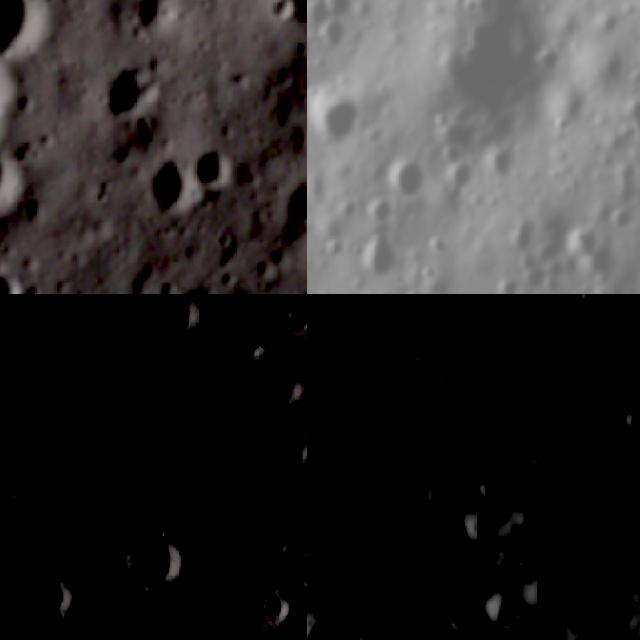crater: (406, 312, 551, 458), (114, 515, 202, 604), (396, 461, 484, 550), (201, 294, 290, 378), (346, 439, 434, 515), (514, 559, 580, 638), (94, 51, 164, 120), (19, 568, 86, 637), (126, 434, 195, 498), (142, 294, 211, 354), (307, 590, 387, 640), (137, 149, 190, 224), (348, 562, 410, 624), (307, 82, 363, 149), (209, 401, 267, 465), (189, 134, 243, 197), (0, 0, 55, 61), (470, 581, 526, 640), (250, 580, 304, 636), (149, 375, 205, 427), (220, 474, 274, 526), (339, 373, 390, 426), (354, 228, 404, 282), (174, 464, 222, 518), (366, 314, 414, 366), (382, 150, 431, 199), (0, 47, 22, 143), (58, 536, 103, 582), (122, 0, 182, 34), (250, 506, 294, 551), (76, 308, 120, 352), (436, 599, 483, 640), (0, 145, 25, 222), (438, 148, 482, 191), (486, 135, 526, 181), (273, 427, 307, 478), (115, 375, 155, 416), (310, 14, 353, 52), (363, 190, 398, 227), (260, 532, 296, 566), (612, 401, 640, 443), (0, 267, 38, 294), (100, 294, 130, 326), (320, 0, 363, 21), (491, 272, 520, 294), (0, 294, 21, 320), (66, 286, 110, 294)
